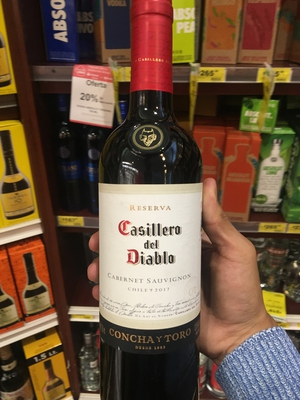casillero del diablo cabernet sauvignon: (94, 19, 205, 400)
